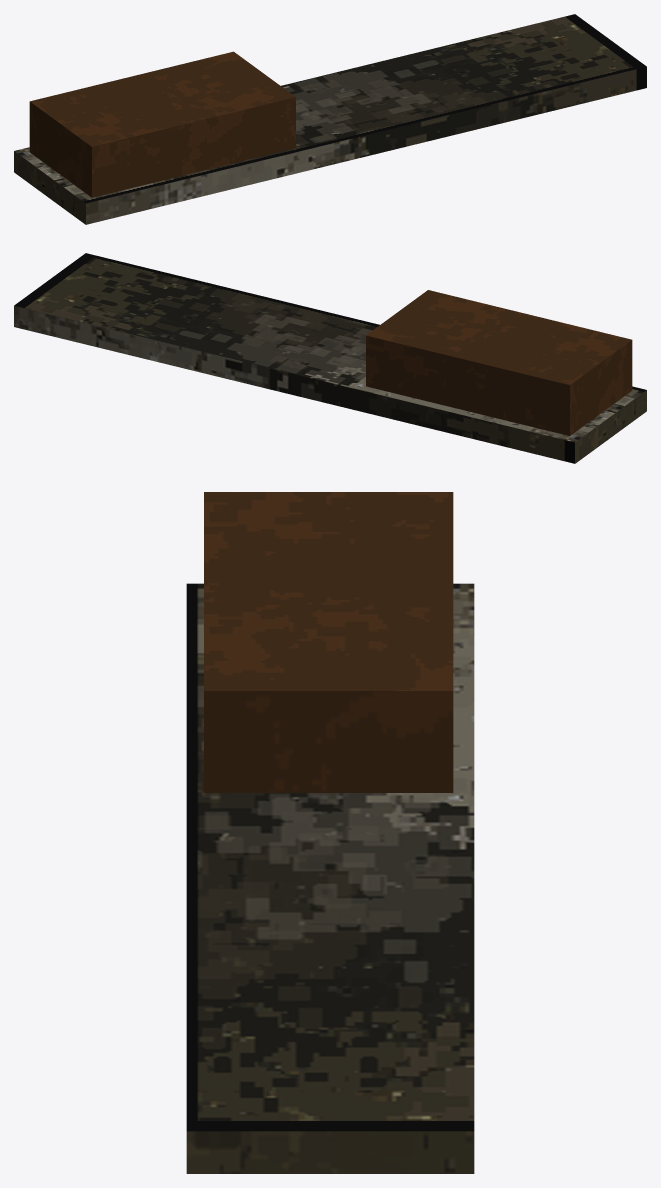
File: Switch.FBX
3 renders of one model, top to bottom at view 1: azimuth 30°, elevation 25°; view 2: azimuth 150°, elevation 25°; view 3: azimuth 270°, elevation 25°, orthographic. The views are drawn at different scales.
Visible parts, largest first — view 1: Box016; view 2: Box016; view 3: Box016.
Part boxes in pixels (left/top/right/bottom): Box016: left=14, top=14, right=646, bottom=224; Box016: left=14, top=253, right=646, bottom=463; Box016: left=186, top=492, right=474, bottom=1173.
Size of the model in its own units: 5.7 by 0.7012 by 1.26.
Materials: 1 (1 with a texture image).
